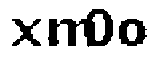0: (84, 5, 115, 52)
m: (44, 17, 96, 52)
o: (118, 15, 151, 52)
x: (9, 17, 42, 50)
